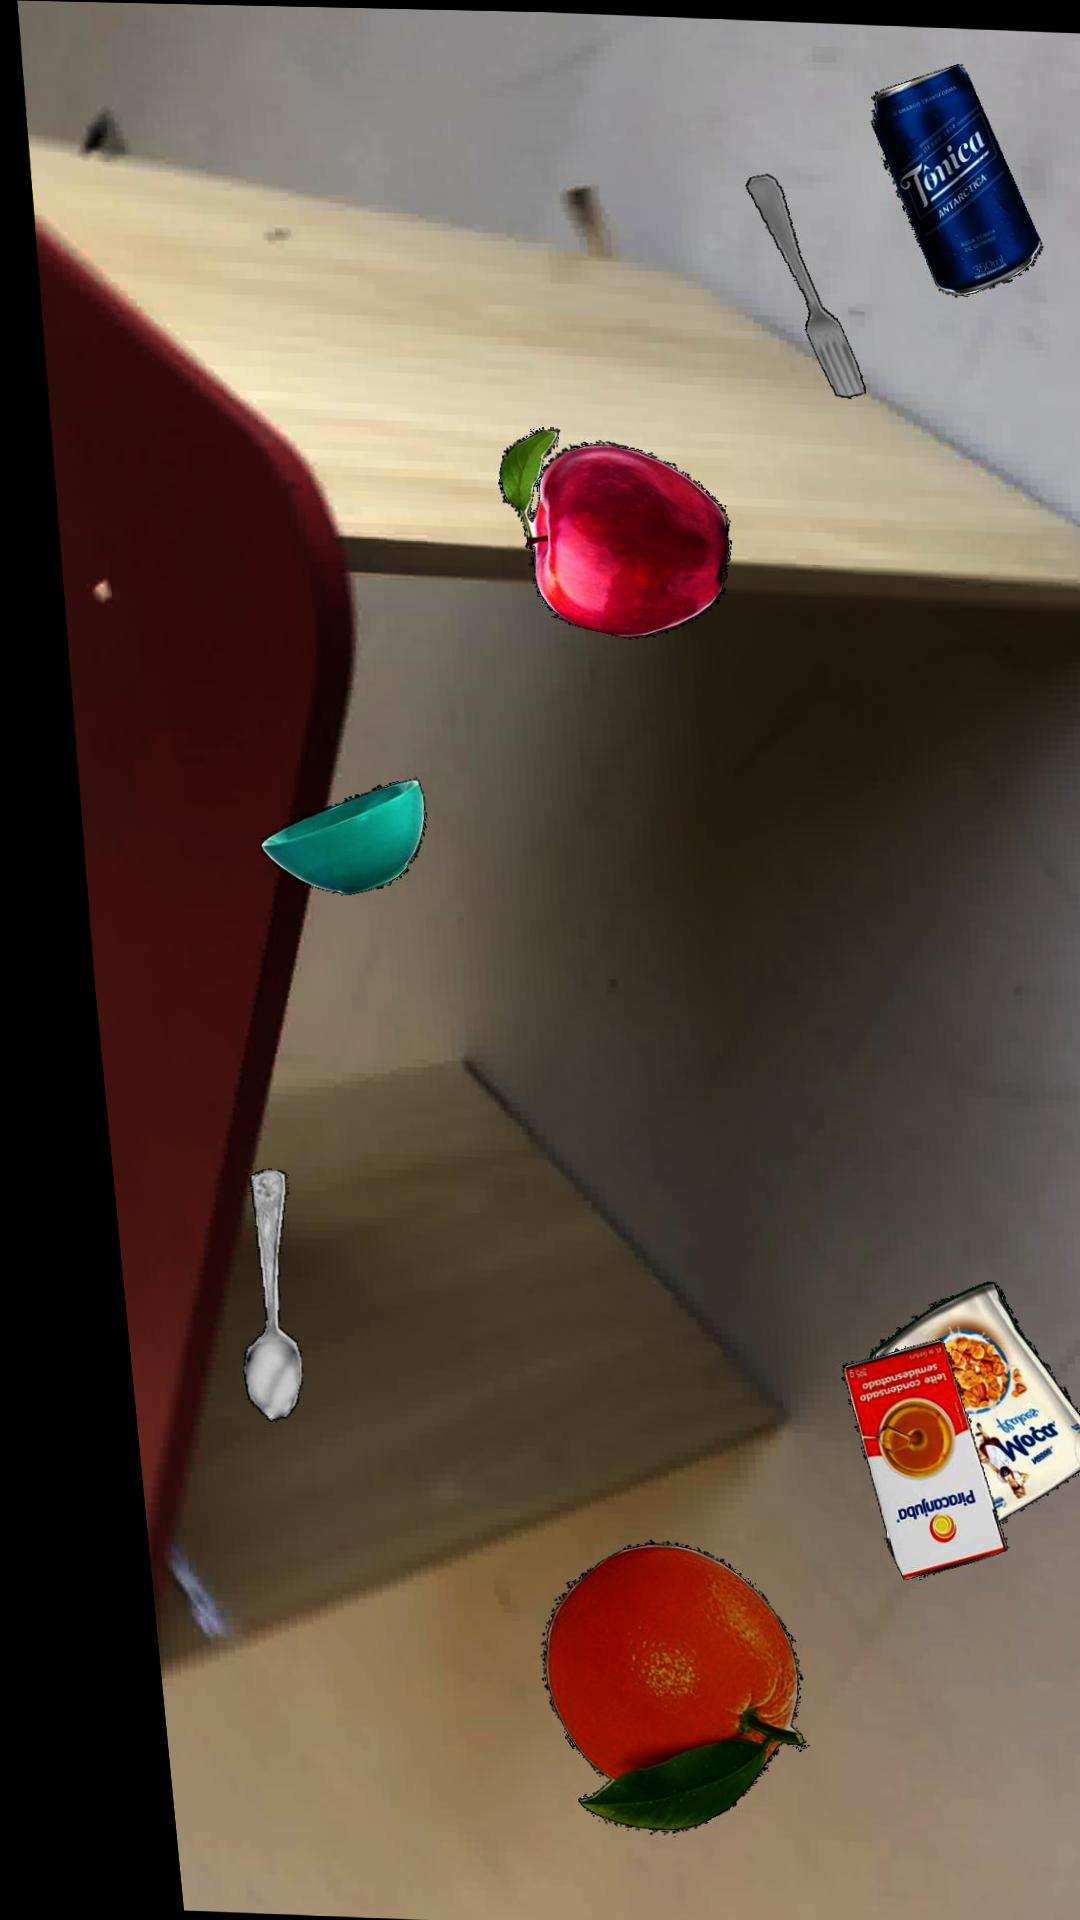apple: (491, 429, 720, 637)
bowl: (244, 779, 411, 895)
corn flakes: (843, 1279, 1079, 1519)
fork: (744, 173, 860, 397)
orange: (512, 1539, 771, 1832)
spoon: (216, 1170, 276, 1423)
tonic: (870, 61, 1039, 293)
